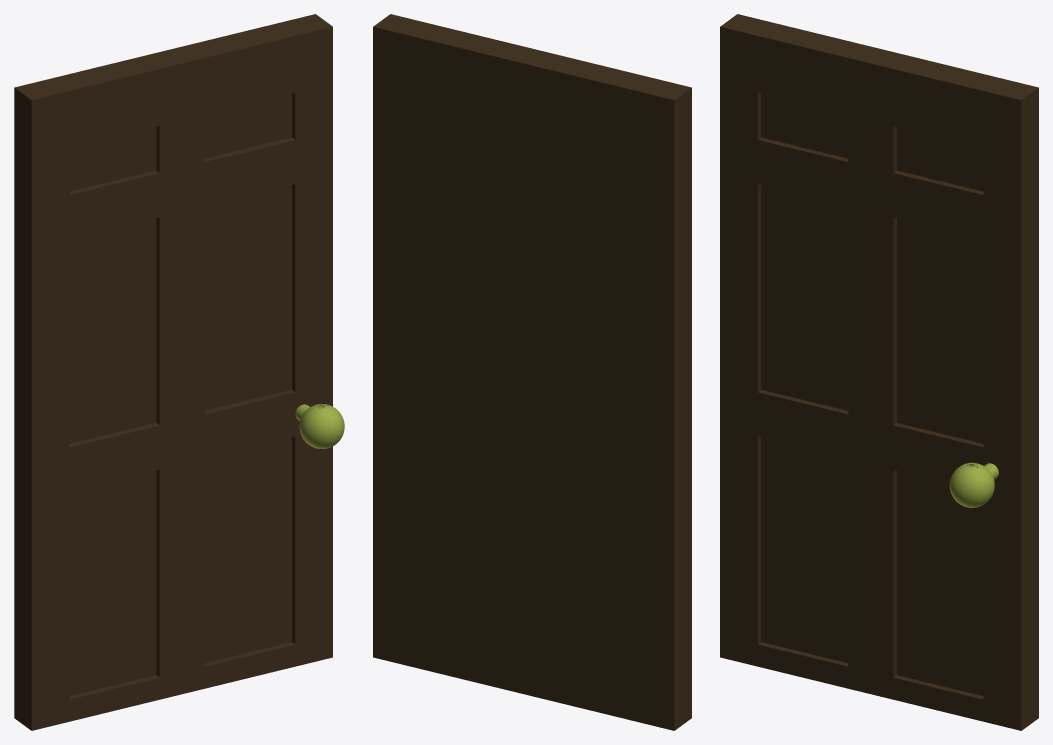
The model's file is Door_Color.fbx.
3 views of the same model, side by side, from view 1: azimuth 30°, elevation 25°; view 2: azimuth 150°, elevation 25°; view 3: azimuth 330°, elevation 25° (orthographic).
Visible parts, largest first — view 1: Object; view 2: Object; view 3: Object.
Boxes of the visible parts, x1,y1,x2,y2 form: Object: (14, 14, 344, 730); Object: (373, 14, 691, 730); Object: (720, 14, 1038, 730).
Bounding box in the file's own units: 50 × 100 × 13.75.
